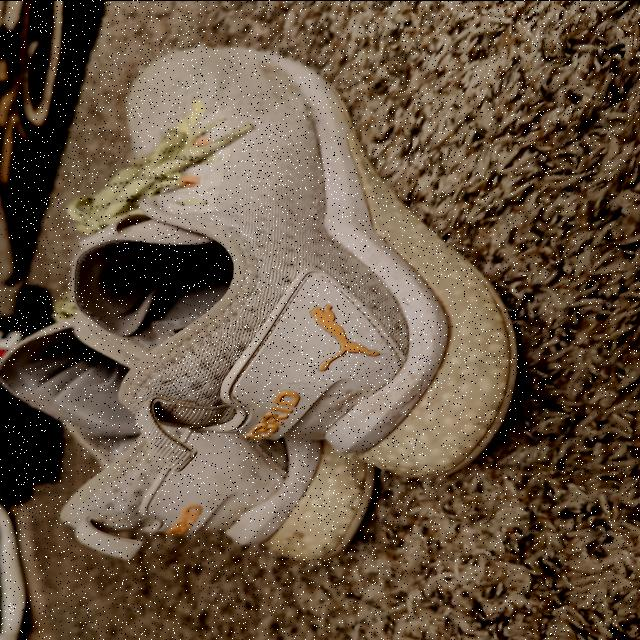white shoes: (0, 46, 501, 544)
